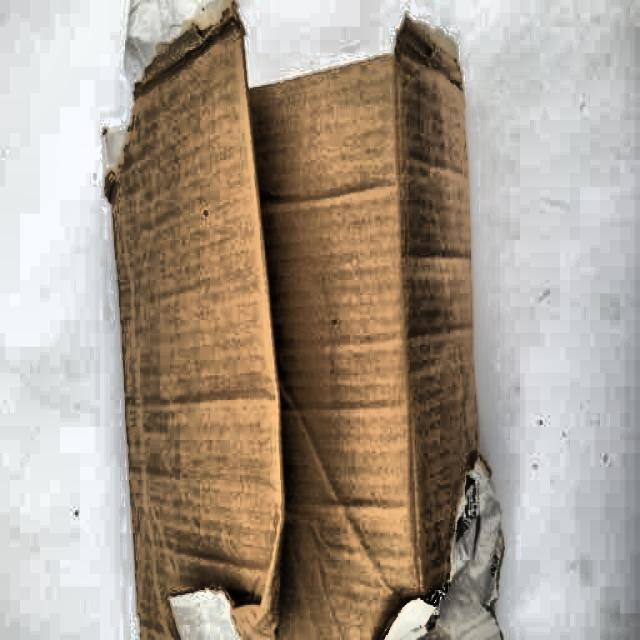cardboard: (93, 8, 522, 640)
